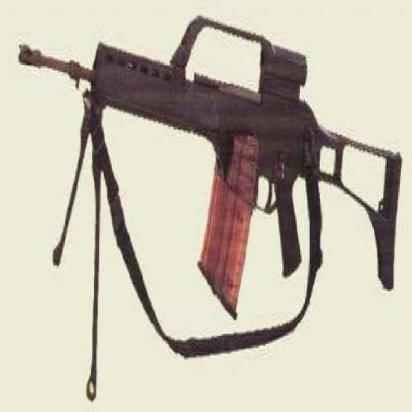Gun: (17, 6, 404, 310)
